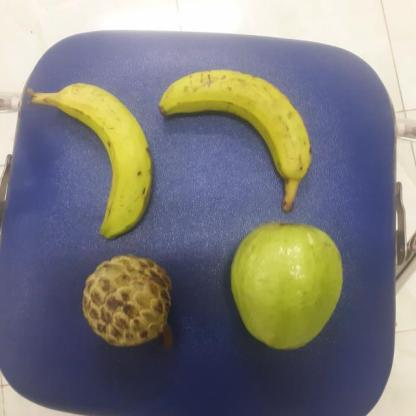annona: (78, 254, 176, 349)
banana: (147, 67, 316, 185), (44, 76, 158, 240)
guava: (226, 220, 345, 353)
